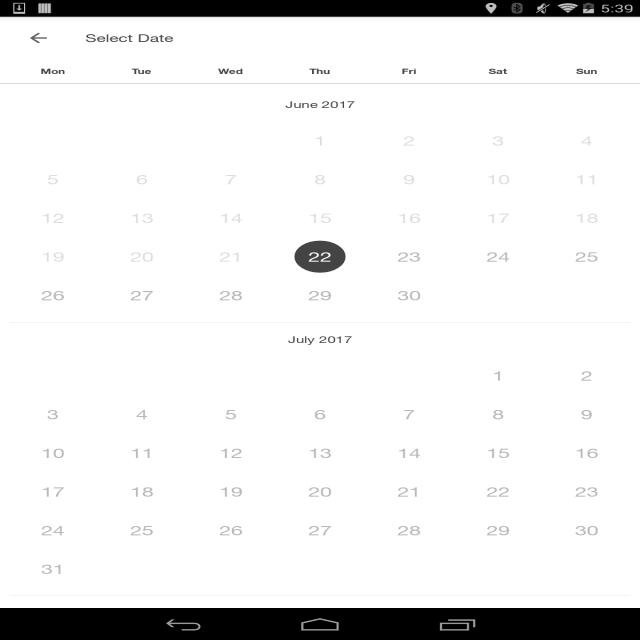ImageButton: (20, 26, 54, 51)
TextView: (276, 91, 391, 121), (66, 24, 202, 48), (273, 324, 373, 356), (210, 436, 260, 466), (208, 245, 252, 274), (388, 517, 438, 540), (478, 58, 524, 82)
